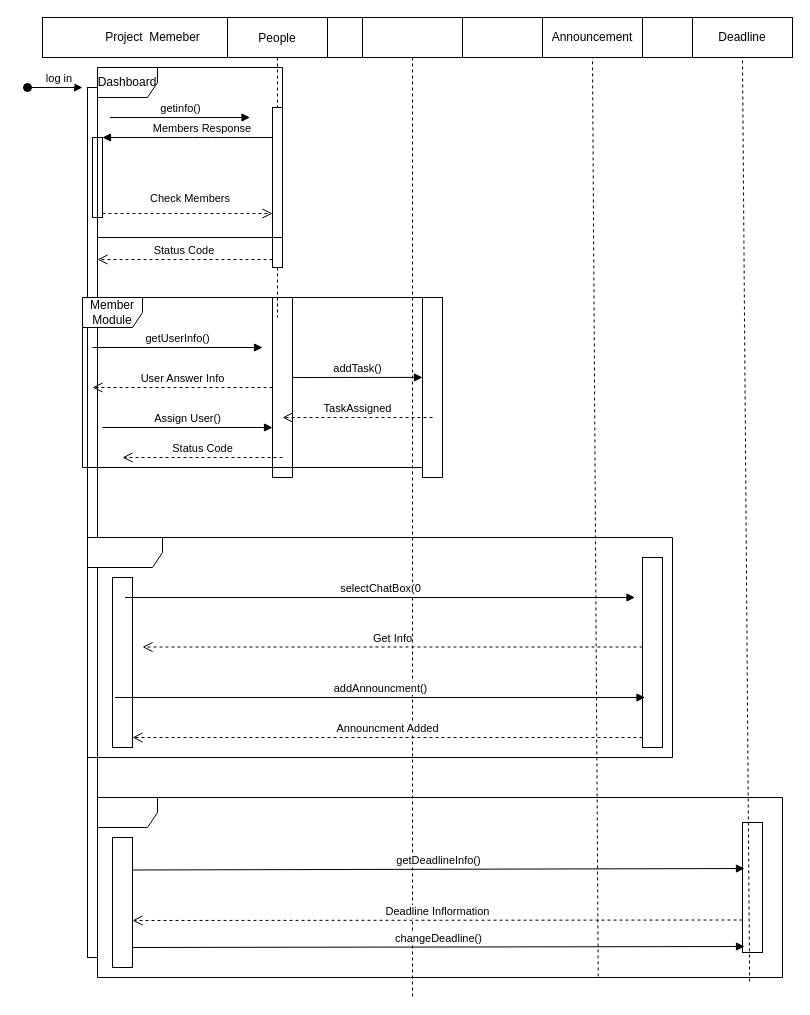
Some shapes in this 810 by 1015 pixel diagram are drawn without their labels. Each missing label, with the box of its shape:
Announcment: (86, 536, 672, 758)
BugReport Module: (96, 796, 782, 978)
Tasks: (362, 16, 462, 58)
